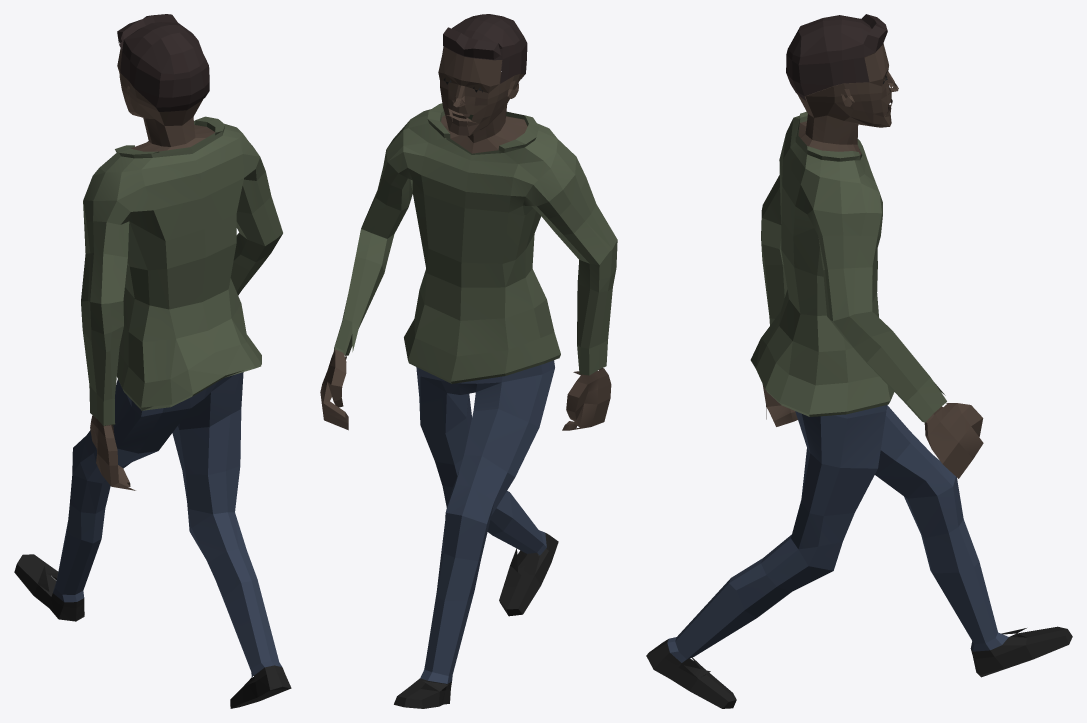
File: person_1_w1.fbx
3 views of the same model, side by side, from view 1: azimuth 30°, elevation 25°; view 2: azimuth 150°, elevation 25°; view 3: azimuth 270°, elevation 25° (orthographic). The views are drawn at different scales.
Parts seen in each view (by area): view 1: BaseHuman; view 2: BaseHuman; view 3: BaseHuman.
Part boxes in pixels (left/top/right/bottom): BaseHuman: left=14, top=14, right=291, bottom=708; BaseHuman: left=320, top=14, right=617, bottom=708; BaseHuman: left=646, top=14, right=1072, bottom=708.
Size of the model in its own units: 0.3531 by 1 by 0.573.
